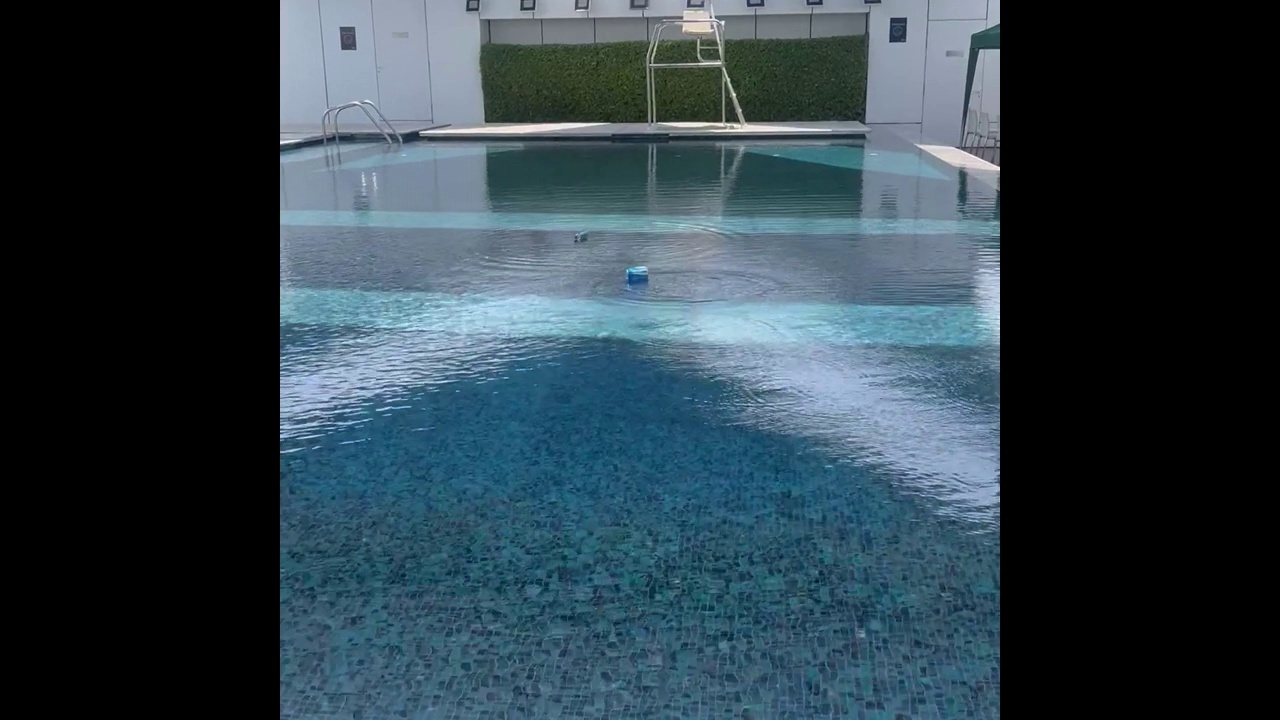debris: (620, 264, 651, 287), (569, 228, 590, 244)
